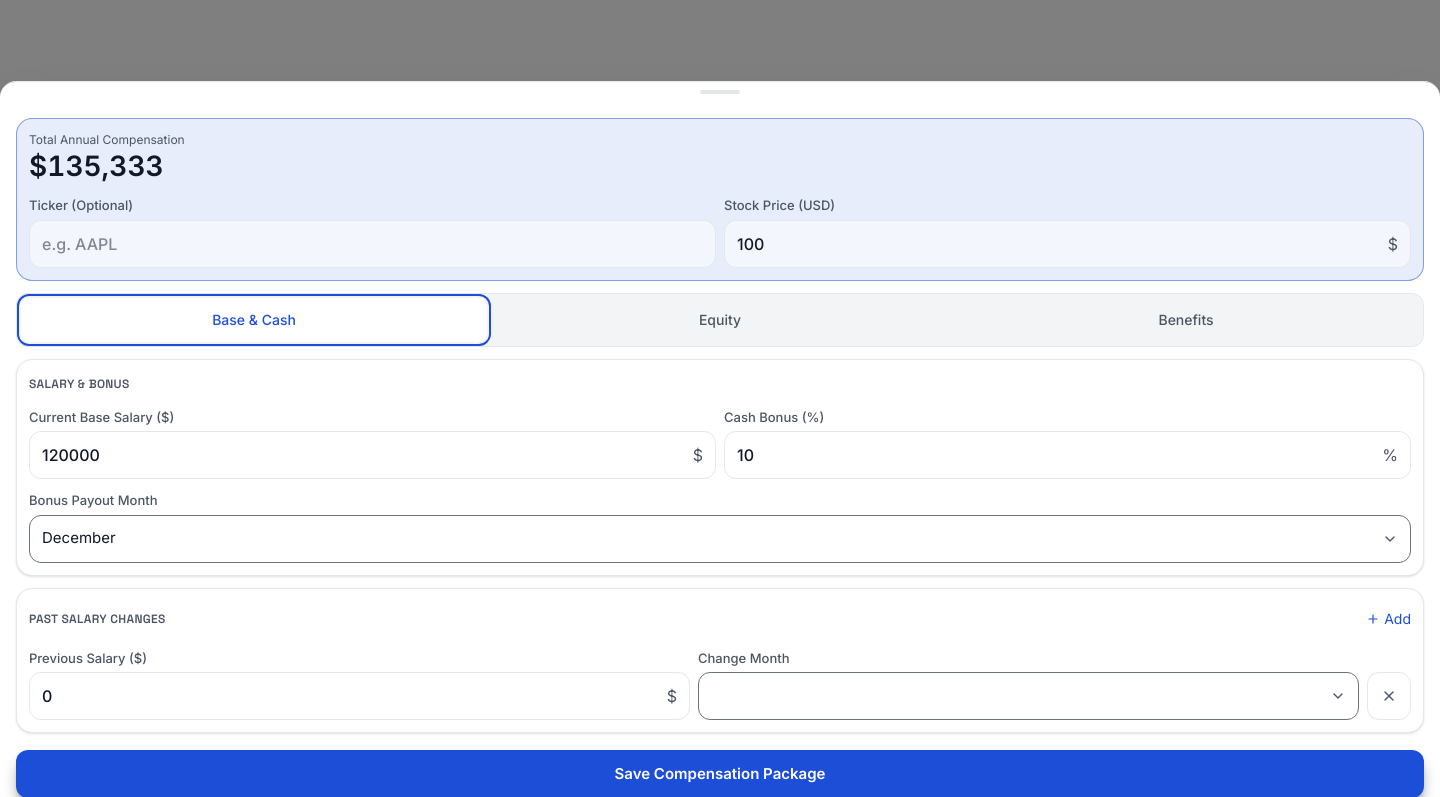
it: Edit Compensation Package on a phone › shows the stock fields above the tabs and each tab in its own cards
expect the field labelled "Ticker (Optional)" is shown: met, box [42,232,703,256]
expect the field labelled "Stock Price (USD)" is shown: met, box [737,232,1380,256]
Click the button "Equity" at (720, 320), box [487,298,953,342]
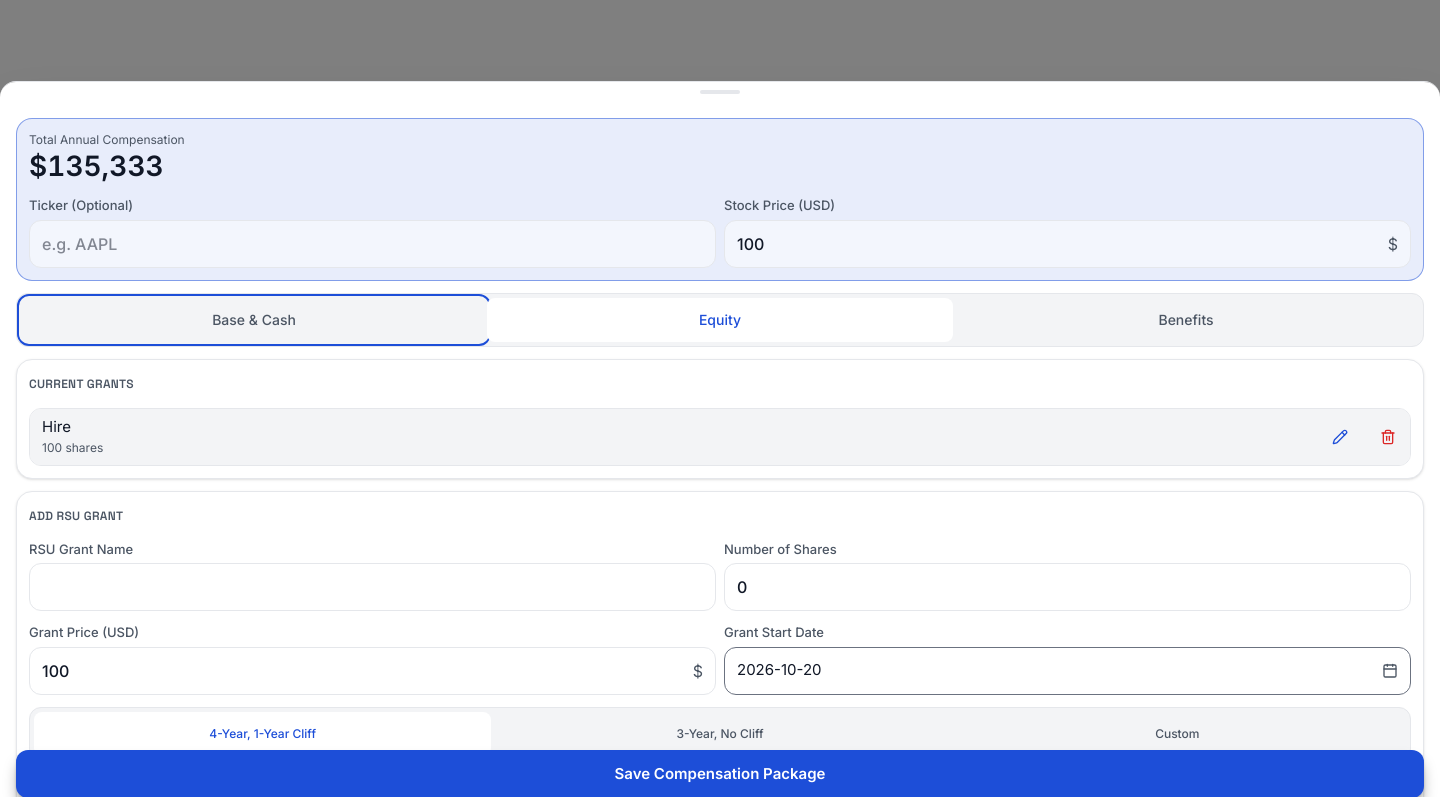
expect the heading "Current Grants" is shown: met, box [29,374,134,392]
expect the text "Hire" is shown: met, box [42,417,71,436]
Click the button "Benefits" at (1186, 320), box [953,298,1419,342]
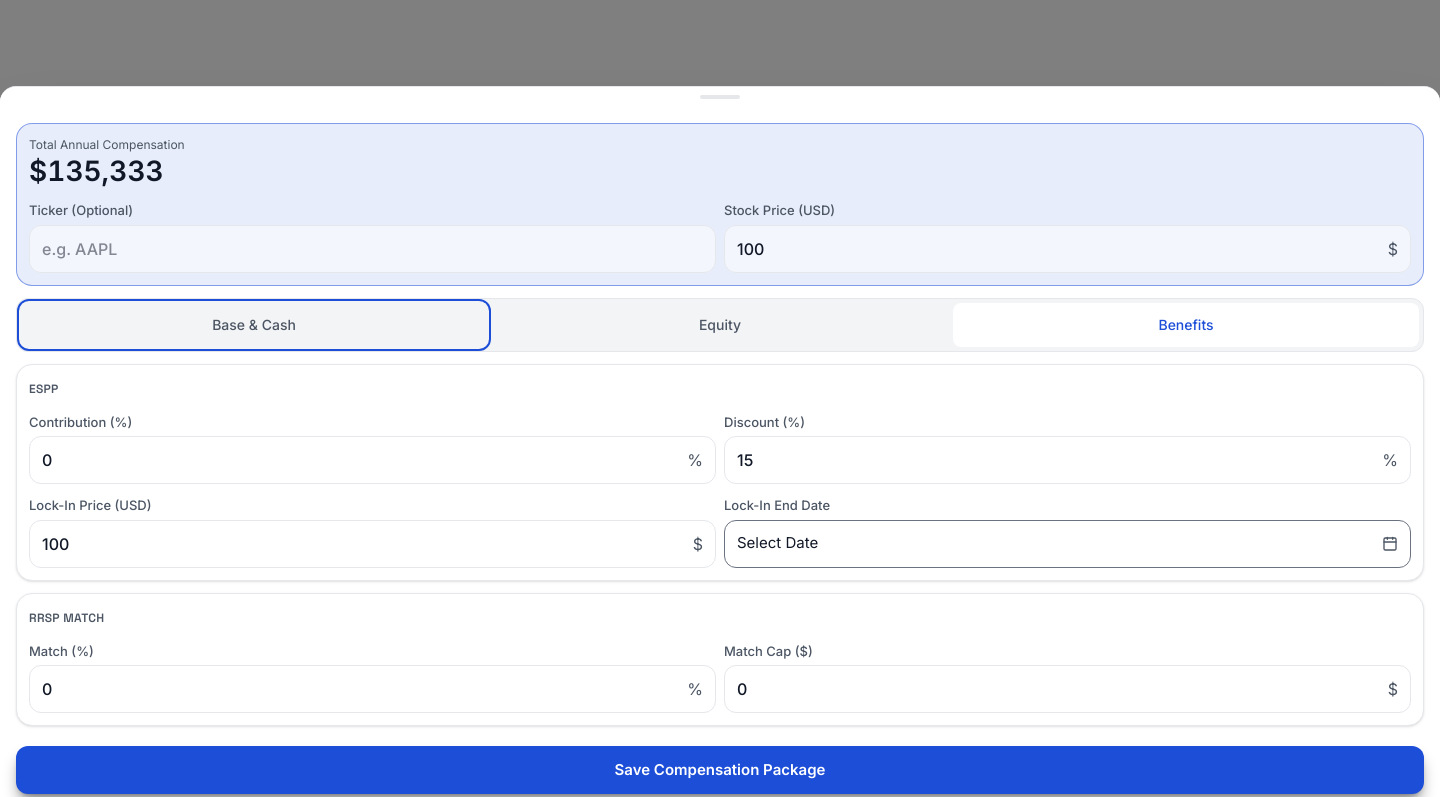
expect the field labelled "Contribution (%)" is shown: met, box [42,448,679,472]
expect the button named "Lock-In End Date" is shown: met, box [724,520,1411,568]
expect the field labelled "Match Cap ($)" is shown: met, box [737,677,1380,701]
